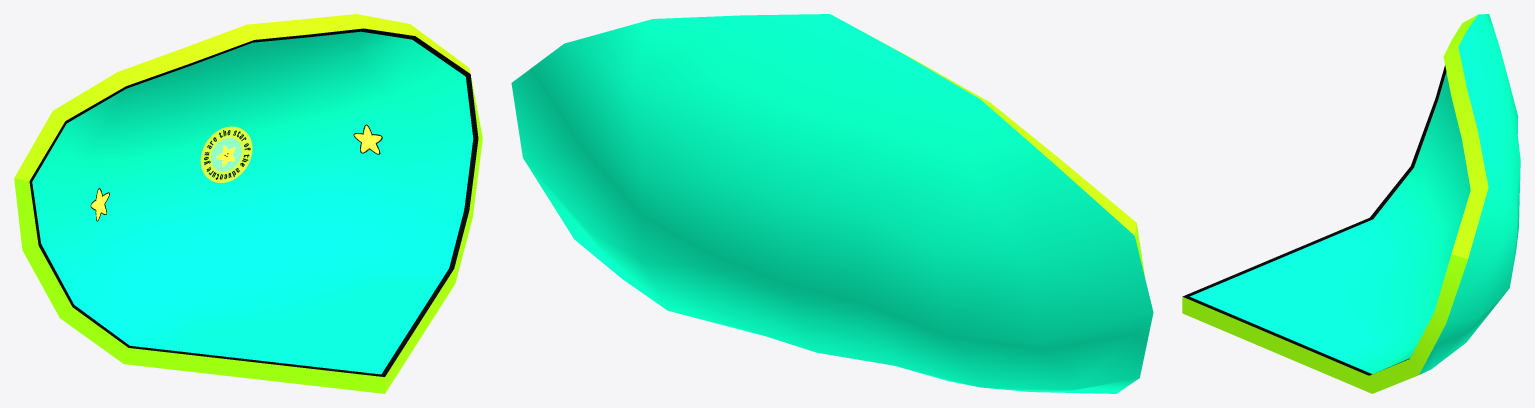
The model's file is cocobay_concave_halfcorner.gltf.
The picture shows the model from 3 angles, left to right: view 1: azimuth 30°, elevation 25°; view 2: azimuth 150°, elevation 25°; view 3: azimuth 270°, elevation 25°; orthographic projection. The views are drawn at different scales.
Visible parts, largest first — view 1: cocobay_concave_halfcorner_glb; view 2: cocobay_concave_halfcorner_glb; view 3: cocobay_concave_halfcorner_glb.
Part boxes in pixels (<box>): cocobay_concave_halfcorner_glb: <box>14,14,482,393</box>; cocobay_concave_halfcorner_glb: <box>511,14,1153,393</box>; cocobay_concave_halfcorner_glb: <box>1182,14,1520,393</box>.
Size of what is drawn, in the model's own units: 6.96 by 3.87 by 4.46.
2 materials, 2 textured.
